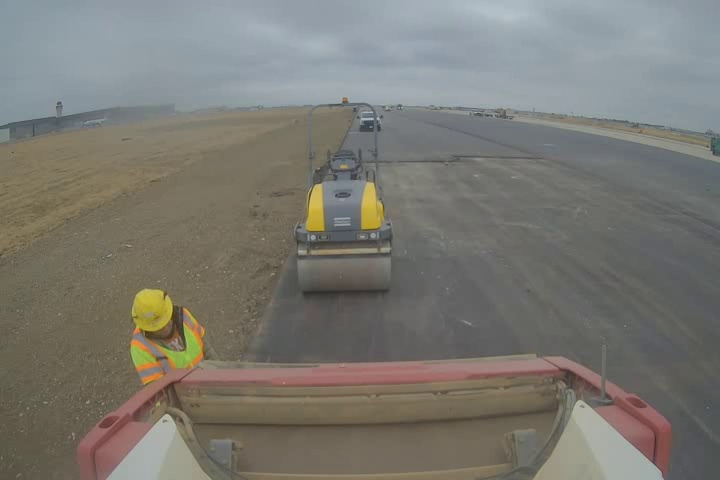person: (124, 282, 213, 388)
vehicle: (74, 350, 671, 479), (295, 103, 392, 293), (354, 109, 382, 135)
vest: (129, 310, 211, 387)
yellow_helmet: (128, 284, 185, 342)
